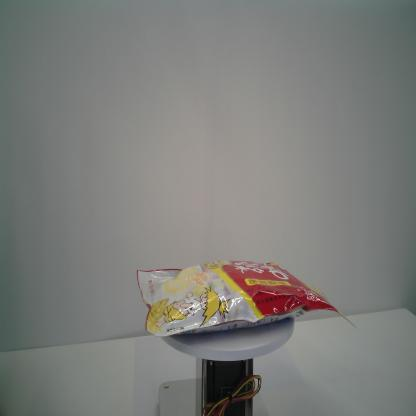Instant Drink: (136, 258, 359, 338)
